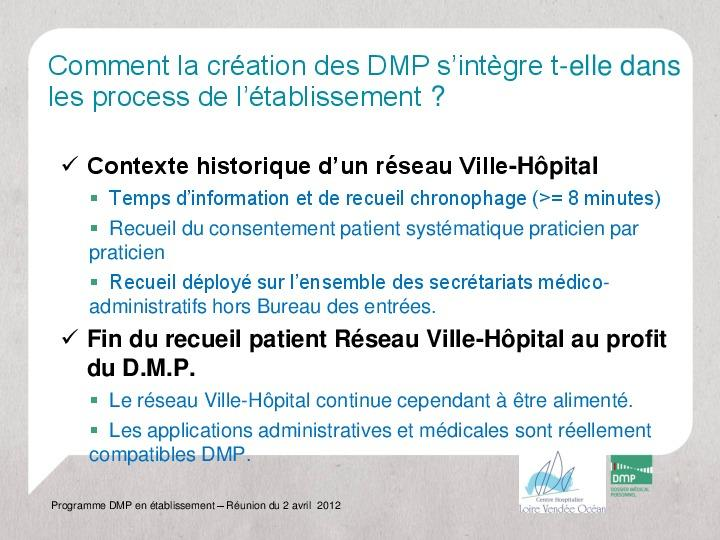paragraph: (57, 133, 686, 478)
title: (42, 46, 685, 112)
